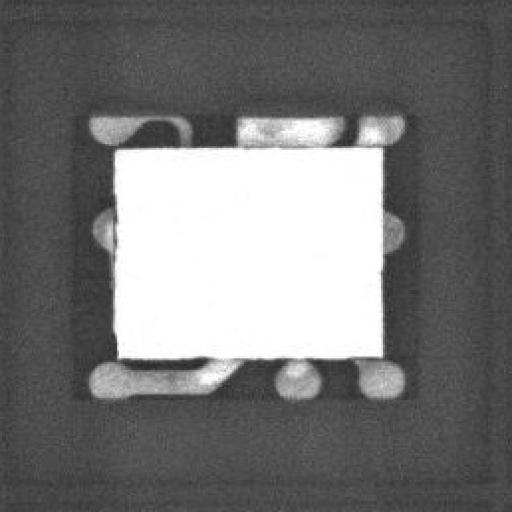DIE_BROKEN: (109, 184, 117, 262), (109, 326, 121, 358)
